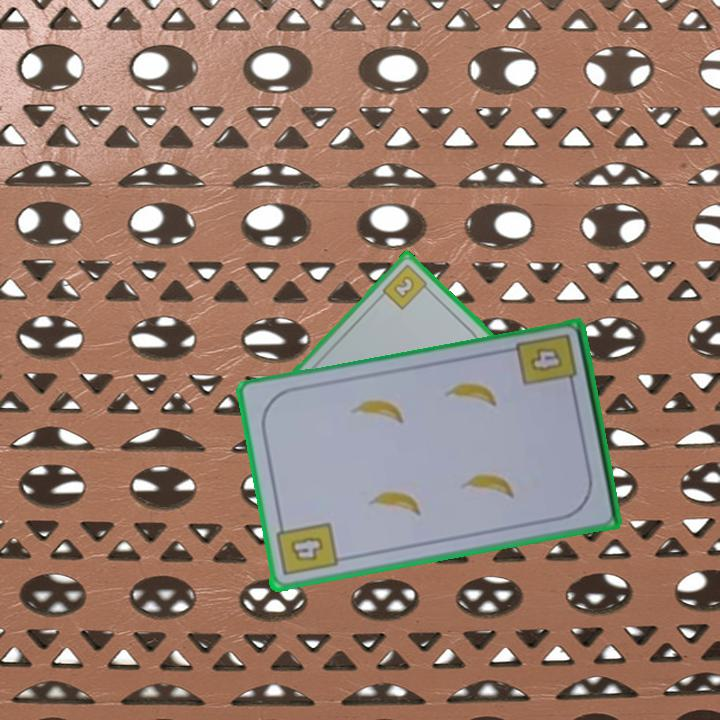2b: (379, 260, 433, 312)
4b: (272, 517, 340, 579), (525, 344, 566, 375)
